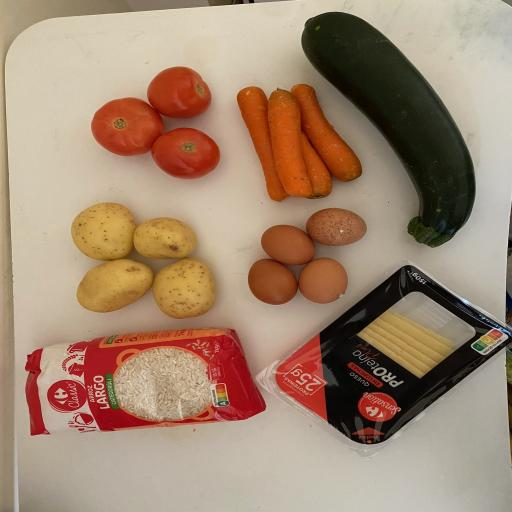carrot: (252, 68, 382, 190), (270, 69, 360, 212), (252, 68, 340, 209), (222, 76, 304, 211)
cheese: (251, 258, 512, 474)
courgette: (287, 7, 489, 255)
egg: (230, 252, 311, 322), (281, 243, 360, 312), (243, 212, 331, 272), (301, 202, 377, 264)
potato: (51, 188, 164, 277), (34, 258, 178, 317), (147, 242, 227, 331), (120, 211, 214, 278)
rice: (12, 313, 282, 447)
tomato: (76, 82, 168, 166), (129, 56, 227, 127), (132, 117, 227, 187)
